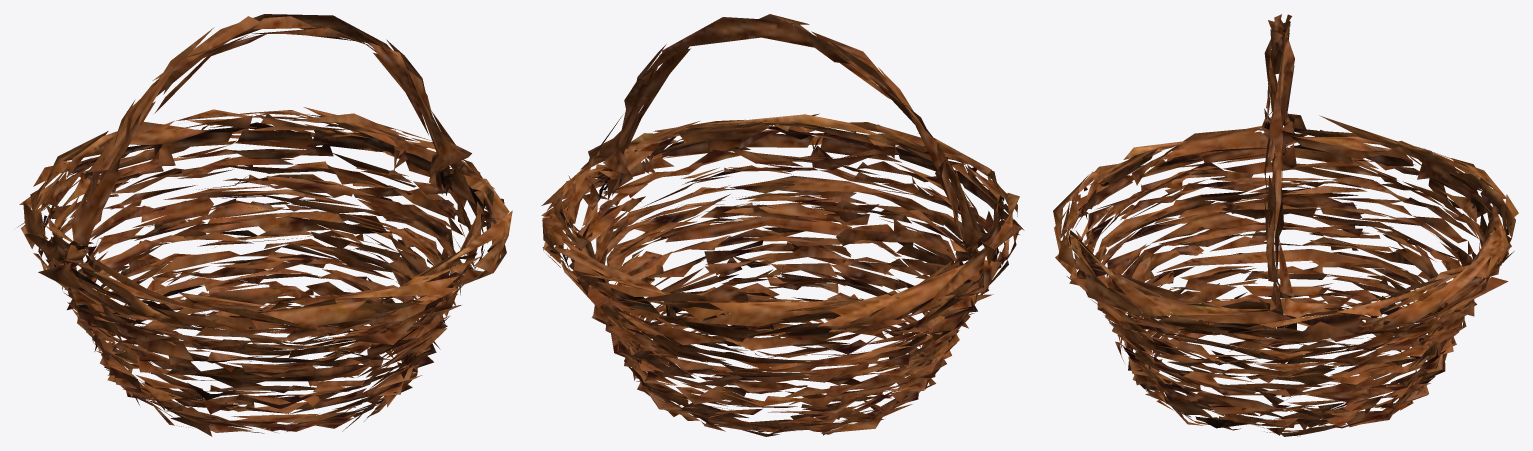
File: periodWillowBasket.glb
3 views of the same model, side by side, from view 1: azimuth 30°, elevation 25°; view 2: azimuth 150°, elevation 25°; view 3: azimuth 270°, elevation 25° (orthographic). The views are drawn at different scales.
Parts seen in each view (by area): view 1: part_0; view 2: part_0; view 3: part_0.
Boxes of the visible parts, x1=… form: part_0: x1=17, y1=14, x2=512, y2=436; part_0: x1=541, y1=14, x2=1024, y2=436; part_0: x1=1053, y1=14, x2=1518, y2=436.
Bounding box in the file's own units: 0.68 × 0.5576 × 0.6694.
1 material, 1 textured.
